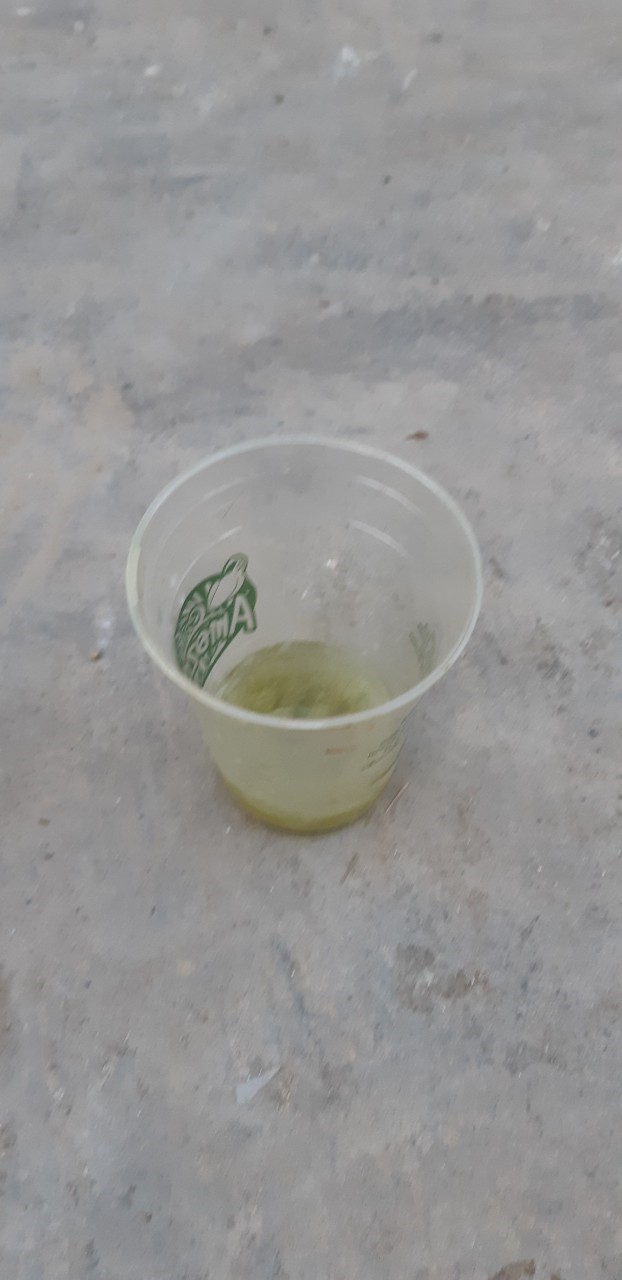PlasticCup: (120, 429, 484, 831)
